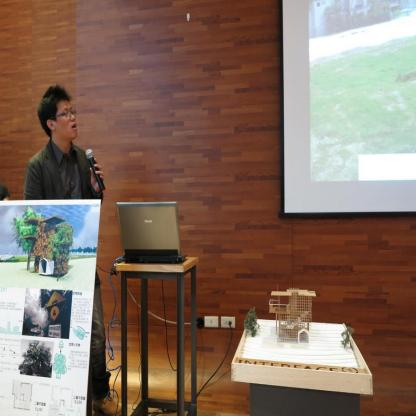board: (115, 198, 186, 263)
